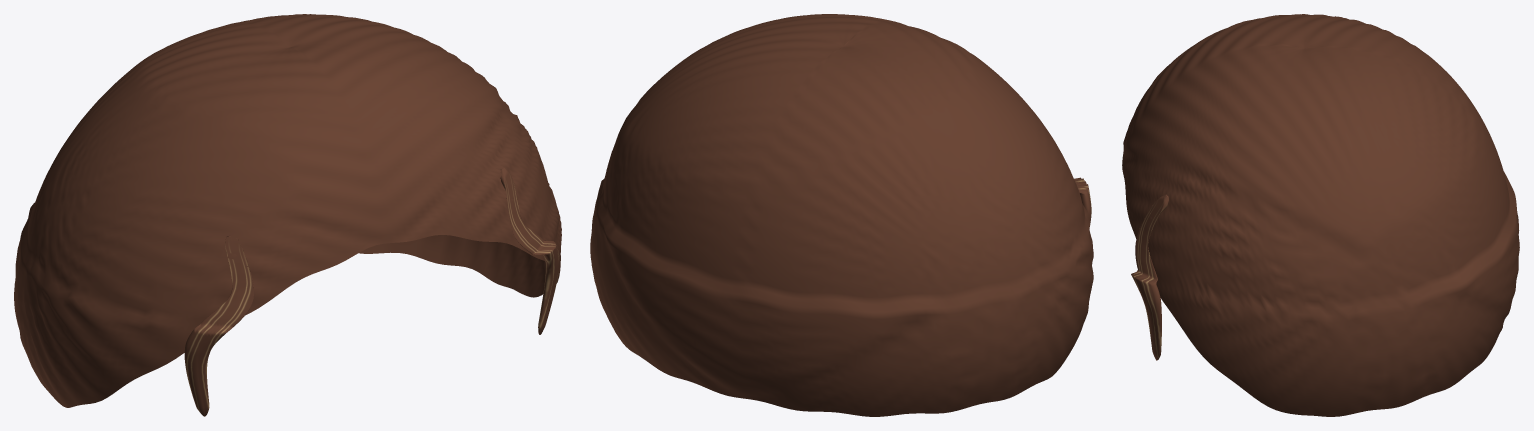
File: Highlights-a17a6822dc38252-hair.glb
3 renders of one model, left to right at view 1: azimuth 30°, elevation 25°; view 2: azimuth 150°, elevation 25°; view 3: azimuth 270°, elevation 25°, orthographic. The views are drawn at different scales.
Parts seen in each view (by area): view 1: 226 hair / Hair / chestnut226.002; view 2: 226 hair / Hair / chestnut226.002; view 3: 226 hair / Hair / chestnut226.002.
Boxes of the visible parts, <box> form: 226 hair / Hair / chestnut226.002: <box>14,14,561,416</box>; 226 hair / Hair / chestnut226.002: <box>590,14,1093,416</box>; 226 hair / Hair / chestnut226.002: <box>1122,14,1519,416</box>.
Size of the model in its own units: 0.9981 by 0.5988 by 0.7846.
1 material, 1 textured.
